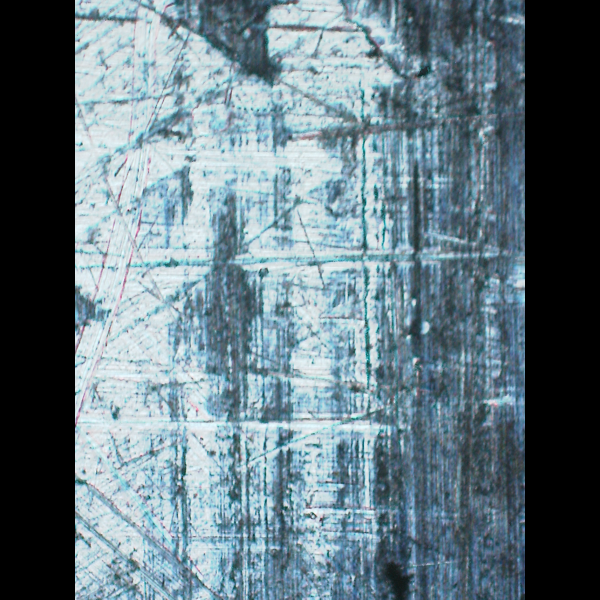d: (75, 7, 455, 599)
